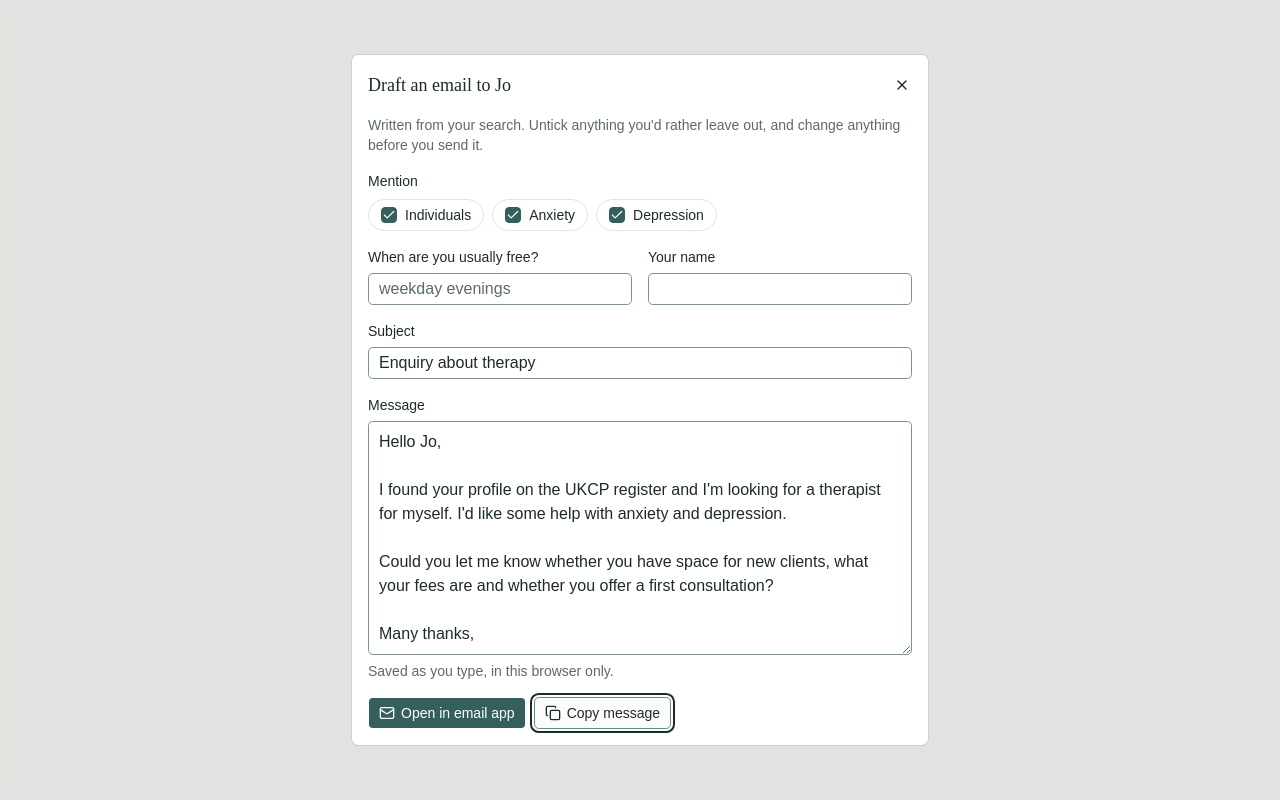
Test: EmailDrafter sending › copies the subject and message, saying so in a popup that asks whether to mark them contacted, keyboard on Not now
Click the button "Copy message": (602, 713) [534,697,671,729]
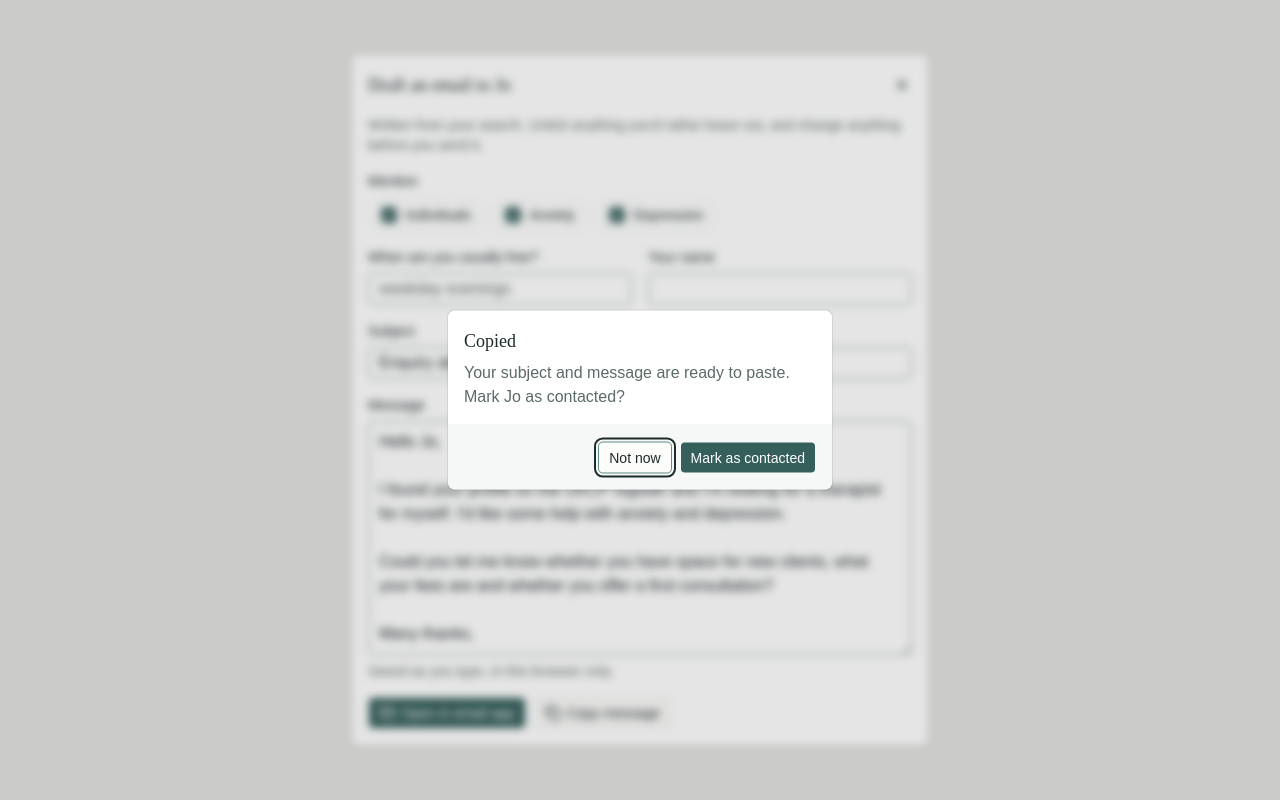
Expected: the dialog "Copied" is shown, [448,310,832,490]
